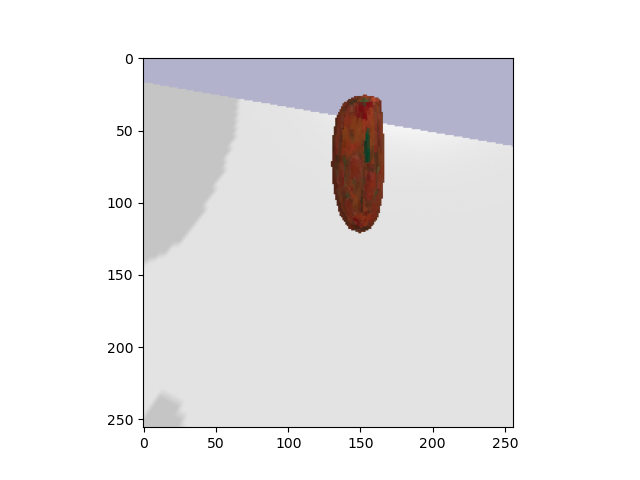v249b387_106: (318, 89, 396, 240)
